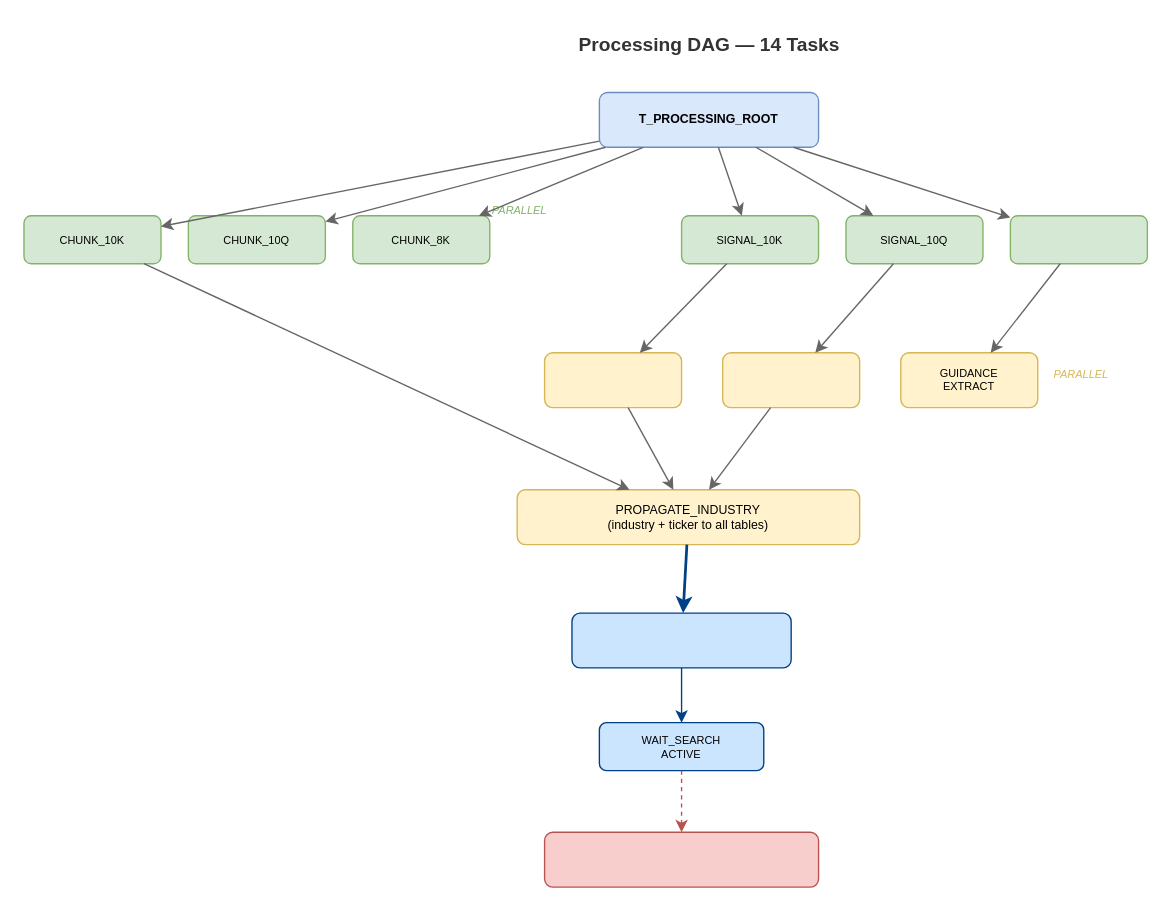
Some shapes in this 1171 by 911 pixel diagram are drawn without their labels. Here are the shapes that lost their labels. From the top down, the centre of each, then its label:
At (x=1078, y=239): "SIGNAL_8K".
At (x=612, y=379): "NORMALIZE SIGNALS".
At (x=790, y=379): "METRICS EXTRACT".
At (x=681, y=640): "REFRESH_SEARCH (incremental)".
At (x=681, y=859): "T_PROCESSING_FINALIZER (email summary)".
